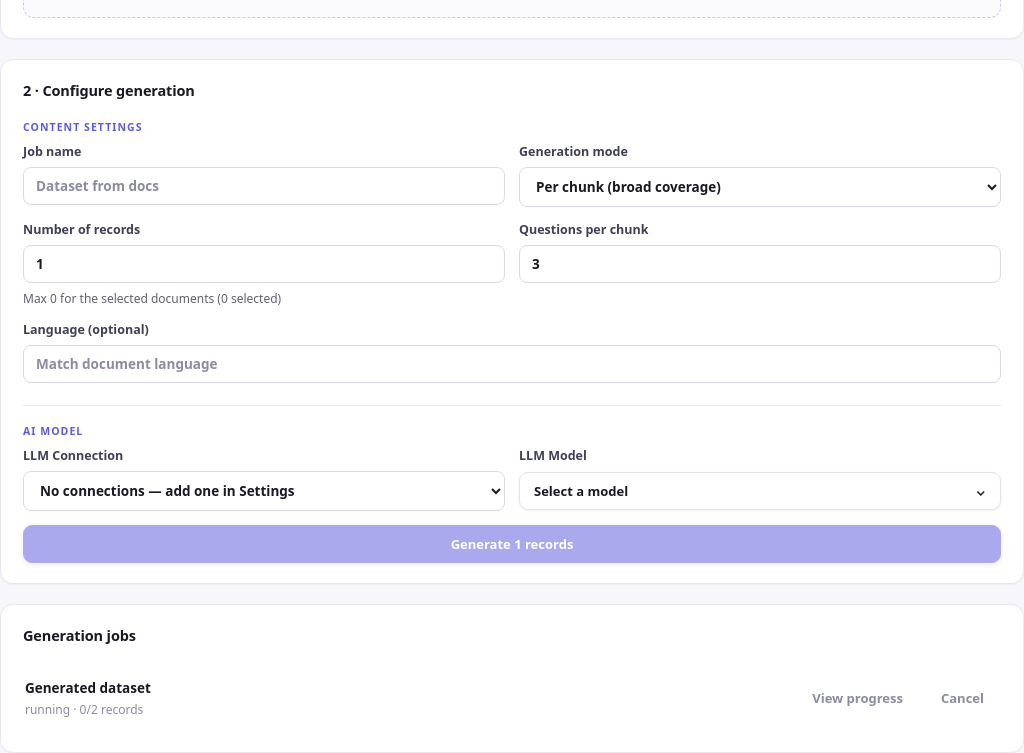
GenerateWizard › shows per-unit errors on a failed generation job
(page scrolled)
Click the button "View progress" at (858,699), box [797,682,918,715]
Wait 2000 ms
(page scrolled)
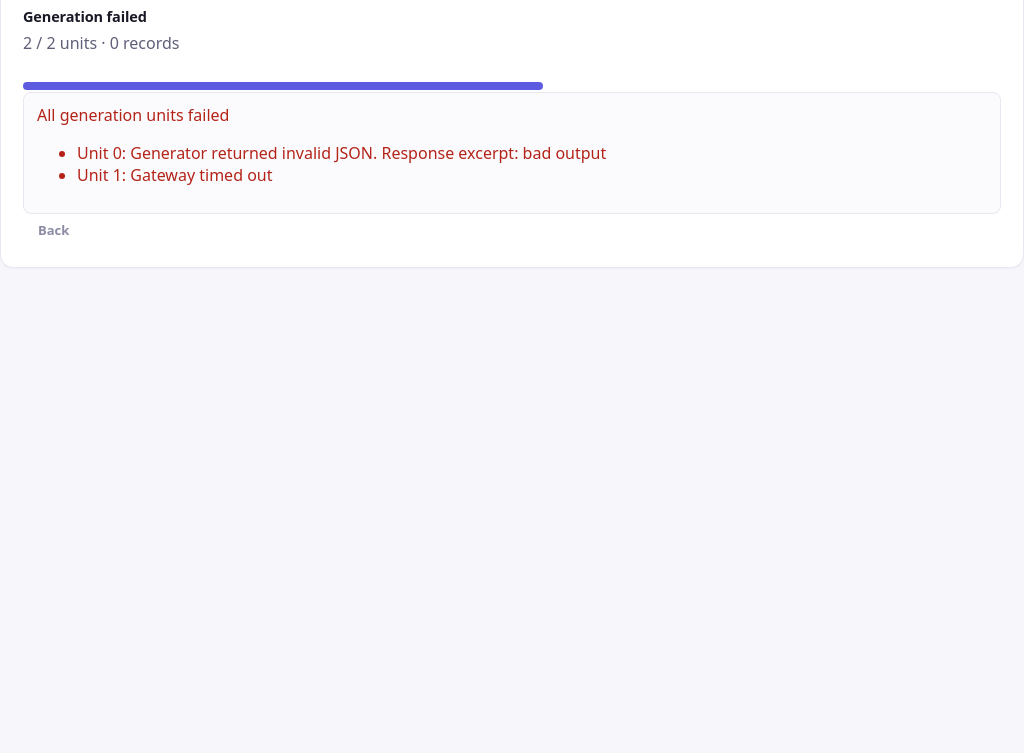
Check: the heading "Generation failed" is shown, box [23,6,147,26]
Check: the list item "Unit 0: Generator returned invalid JSON. Response excerpt: bad output" is shown, box [77,142,606,164]
Check: the list item "Unit 1: Gateway timed out" is shown, box [77,164,272,186]
